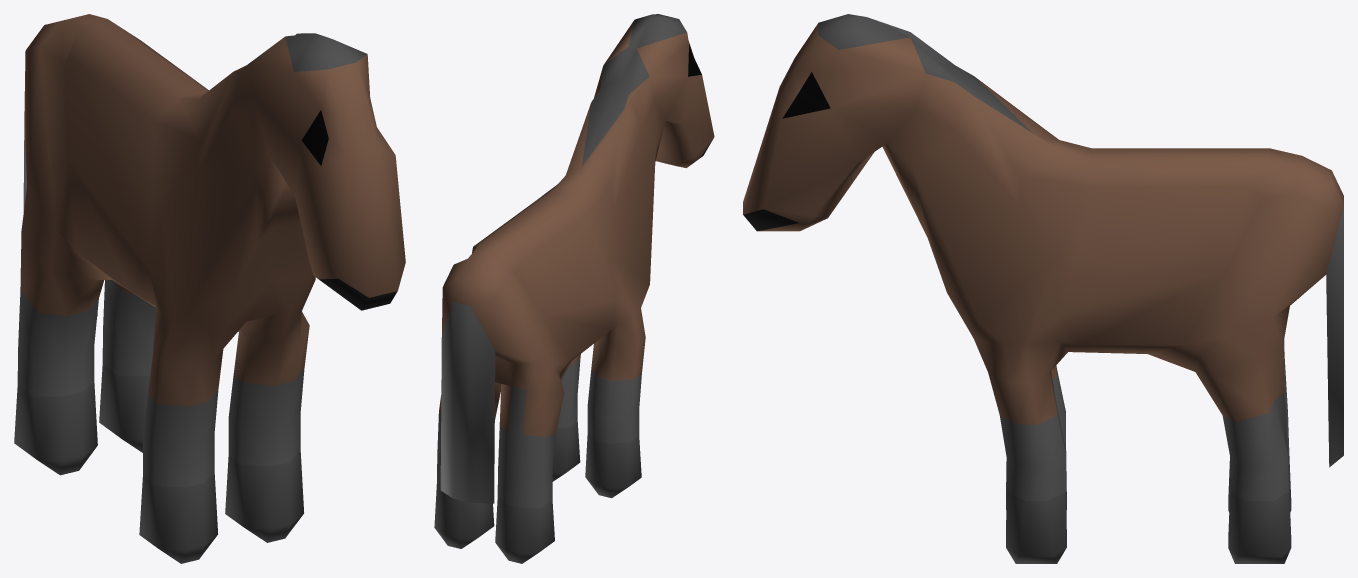
Rendered from horse-cleveland-bay.dae.
3 views of the same model, side by side, from view 1: azimuth 30°, elevation 25°; view 2: azimuth 150°, elevation 25°; view 3: azimuth 270°, elevation 25° (orthographic). The views are drawn at different scales.
Parts seen in each view (by area): view 1: Cube_001; view 2: Cube_001; view 3: Cube_001.
Part boxes in pixels (box(x1,y1,x2,y2)): Cube_001: box(14, 14, 405, 563); Cube_001: box(434, 14, 714, 563); Cube_001: box(743, 14, 1343, 563).
Bounding box in the file's own units: 0.412 × 1.62 × 1.56.
